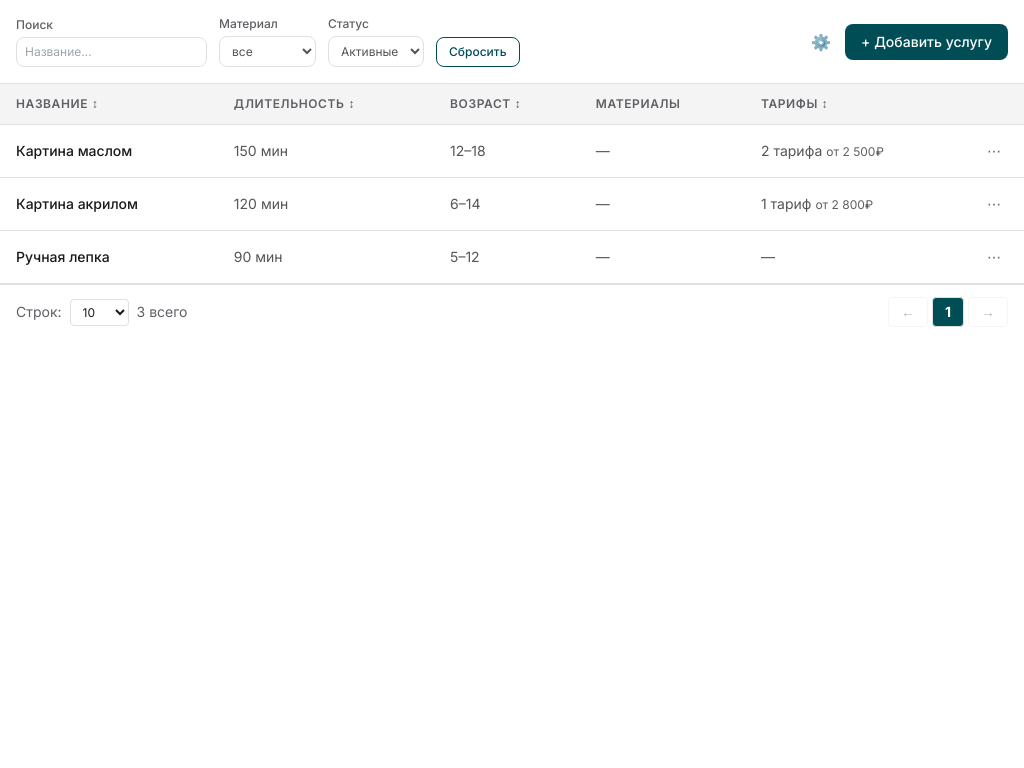
Test case: ServicesTable › Mode A confirm enqueues the deferred delete (resolutions {} + the FULL tree)
Check: the text "Картина маслом" is shown, box [16, 142, 132, 159]
Click the button "⋯" in the row of "Картина маслом" at (994,151), box [980, 137, 1008, 165]
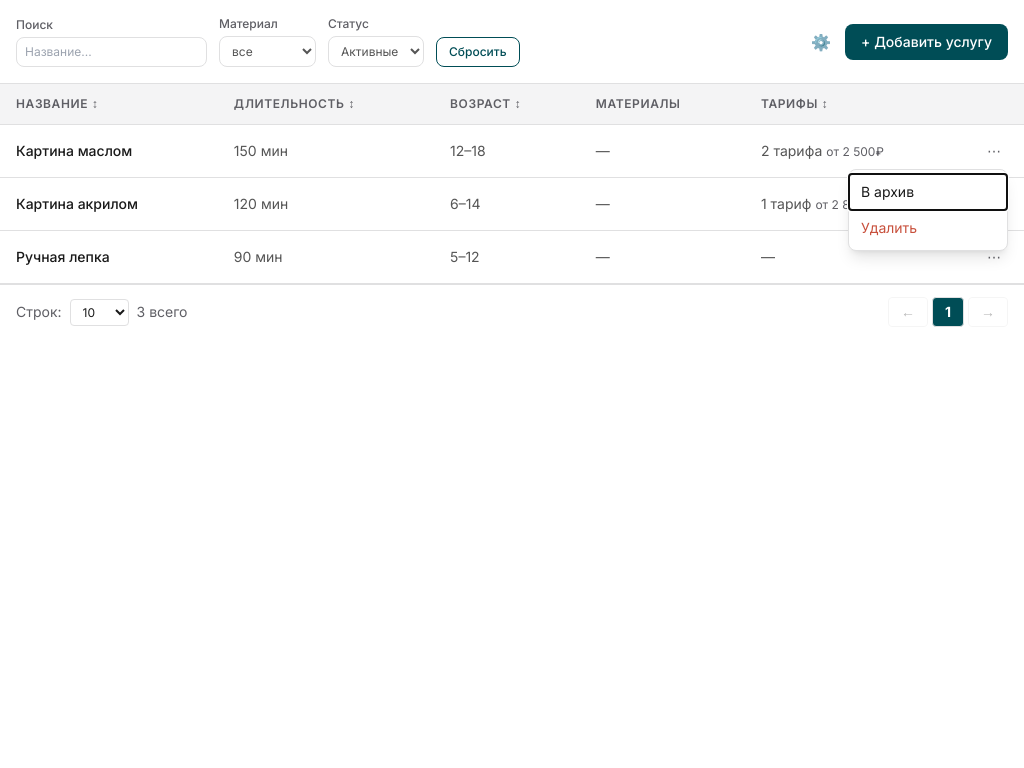
Click the menu item "Удалить" at (928,228), box [849, 210, 1007, 246]
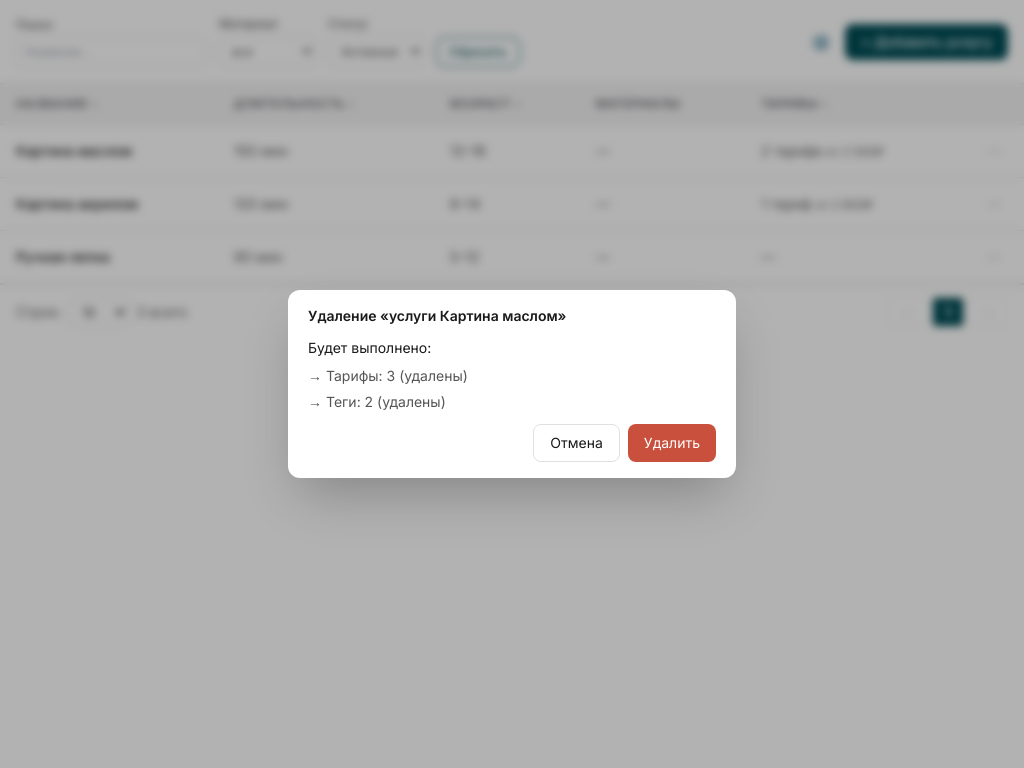
Check: the element with test id "delete-dialog" is shown, box [288, 290, 736, 478]
# All deps auto — no confirm checkbox, button enabled immediately
Click the button with test id "delete-dialog-confirm-btn" at (672,443), box [628, 424, 716, 462]
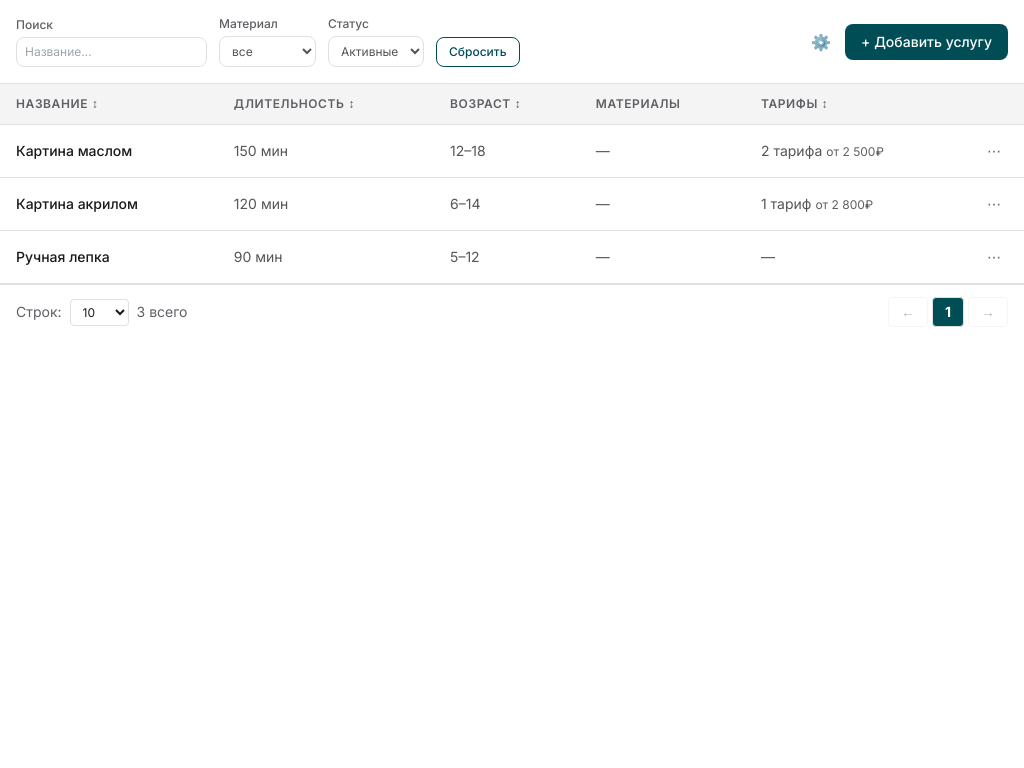
Check: the element with test id "delete-dialog" is gone
